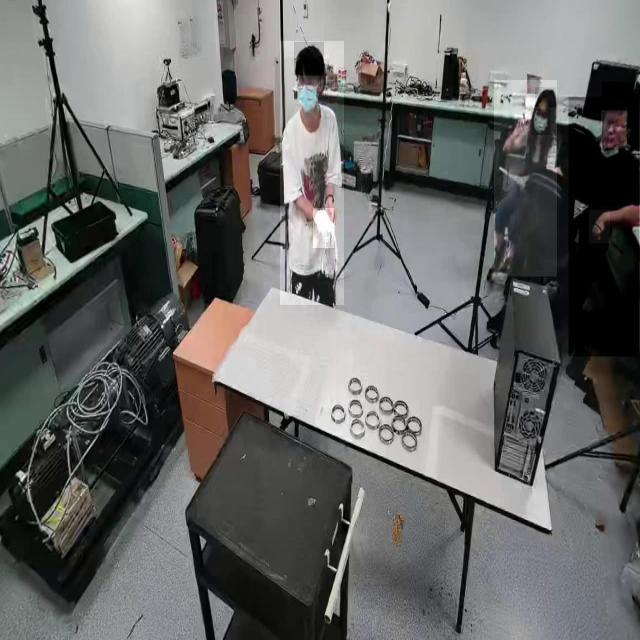face_mask: (296, 77, 318, 119), (532, 109, 550, 135)
face_nomask: (601, 110, 627, 150)
hand_glove: (313, 208, 335, 249)
hand_noglove: (589, 210, 611, 244), (514, 115, 530, 136)
head_nohelmet: (294, 42, 324, 76), (602, 82, 635, 109), (535, 87, 557, 109)
person: (568, 97, 640, 357), (280, 41, 344, 306), (494, 80, 558, 277)
